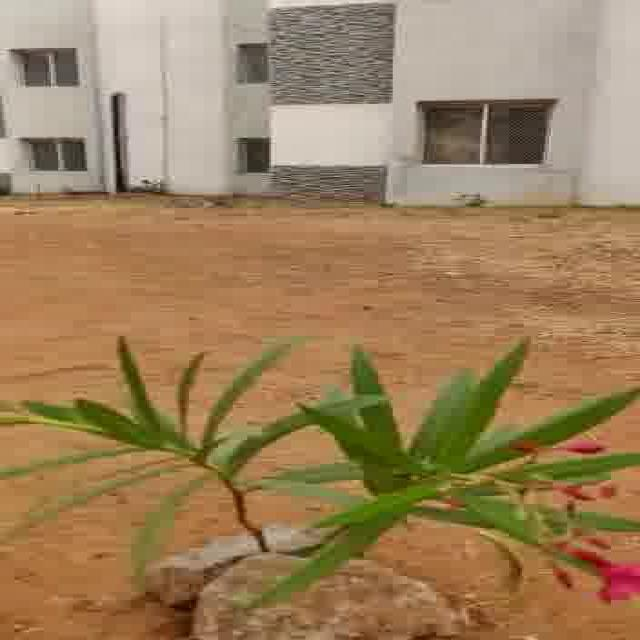Oleander: (7, 311, 640, 564)
